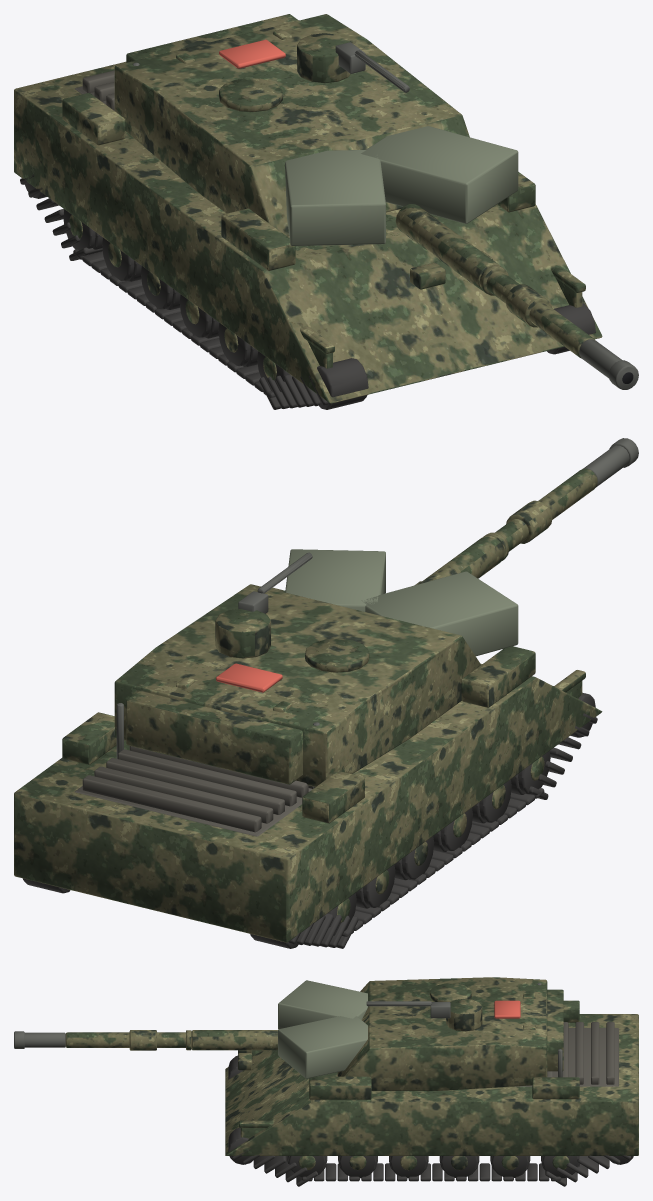
File: mbt_e6_cn_ztz99a_LOD0.glb
The picture shows the model from 3 angles, top to bottom: view 1: azimuth 30°, elevation 25°; view 2: azimuth 150°, elevation 25°; view 3: azimuth 270°, elevation 25°; orthographic projection. The views are drawn at different scales.
Visible parts, largest first — view 1: mbt_e6_cn_ztz99a_LOD0_body, mbt_e6_cn_ztz99a_LOD0_era, mbt_e6_cn_ztz99a_LOD0_track, mbt_e6_cn_ztz99a_LOD0_gun, mbt_e6_cn_ztz99a_LOD0_team, mbt_e6_cn_ztz99a_LOD0_deck; view 2: mbt_e6_cn_ztz99a_LOD0_body, mbt_e6_cn_ztz99a_LOD0_era, mbt_e6_cn_ztz99a_LOD0_deck, mbt_e6_cn_ztz99a_LOD0_track, mbt_e6_cn_ztz99a_LOD0_gun, mbt_e6_cn_ztz99a_LOD0_team; view 3: mbt_e6_cn_ztz99a_LOD0_body, mbt_e6_cn_ztz99a_LOD0_track, mbt_e6_cn_ztz99a_LOD0_era, mbt_e6_cn_ztz99a_LOD0_deck, mbt_e6_cn_ztz99a_LOD0_gun, mbt_e6_cn_ztz99a_LOD0_team.
Boxes of the visible parts, x1,y1,x2,y2 form: mbt_e6_cn_ztz99a_LOD0_body: (14, 14, 602, 403); mbt_e6_cn_ztz99a_LOD0_era: (285, 126, 518, 245); mbt_e6_cn_ztz99a_LOD0_track: (20, 174, 595, 409); mbt_e6_cn_ztz99a_LOD0_gun: (132, 20, 638, 389); mbt_e6_cn_ztz99a_LOD0_team: (219, 39, 285, 68); mbt_e6_cn_ztz99a_LOD0_deck: (75, 70, 114, 110); mbt_e6_cn_ztz99a_LOD0_body: (14, 468, 602, 942); mbt_e6_cn_ztz99a_LOD0_era: (285, 549, 518, 656); mbt_e6_cn_ztz99a_LOD0_deck: (75, 746, 312, 836); mbt_e6_cn_ztz99a_LOD0_track: (23, 686, 597, 948); mbt_e6_cn_ztz99a_LOD0_gun: (116, 438, 638, 788); mbt_e6_cn_ztz99a_LOD0_team: (216, 663, 282, 692); mbt_e6_cn_ztz99a_LOD0_body: (65, 977, 638, 1170); mbt_e6_cn_ztz99a_LOD0_track: (228, 1055, 633, 1186); mbt_e6_cn_ztz99a_LOD0_era: (278, 980, 367, 1078); mbt_e6_cn_ztz99a_LOD0_deck: (515, 1022, 618, 1086); mbt_e6_cn_ztz99a_LOD0_gun: (14, 983, 562, 1077); mbt_e6_cn_ztz99a_LOD0_team: (494, 1000, 520, 1018).
Size of the model in its own units: 3.5 by 2.93 by 10.55.
7 materials, 1 textured.
